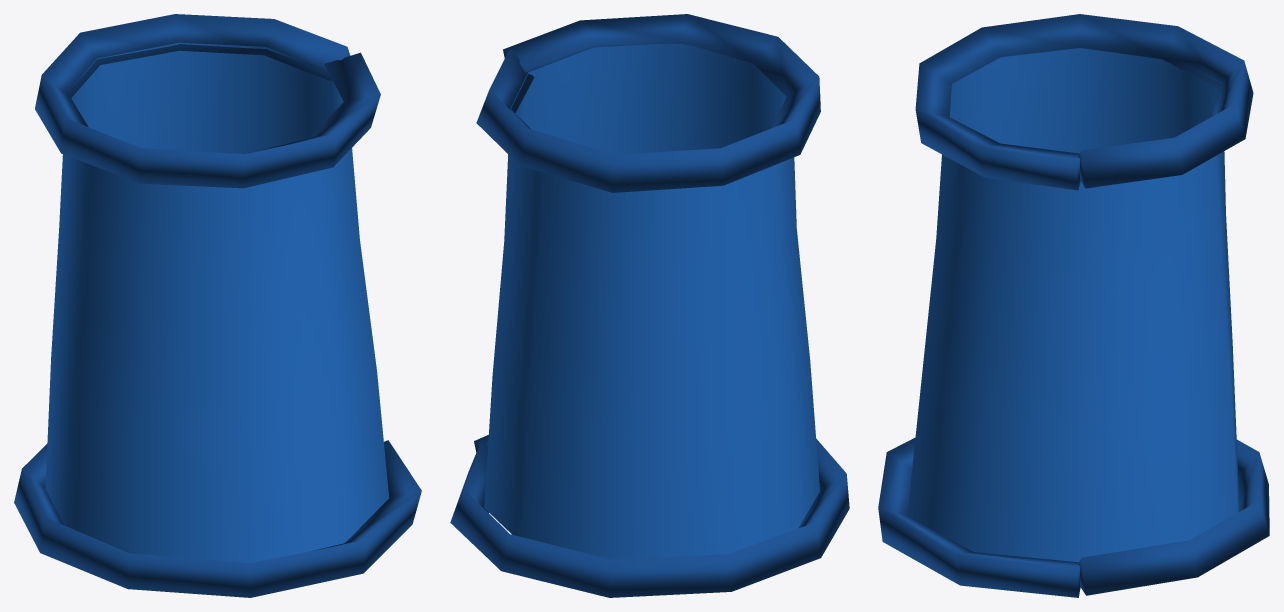
File: cobalt_armor_bracer.R.glb
3 renders of one model, left to right at view 1: azimuth 30°, elevation 25°; view 2: azimuth 150°, elevation 25°; view 3: azimuth 270°, elevation 25°, orthographic.
Parts seen in each view (by area): view 1: cobalt_armor_bracer.R; view 2: cobalt_armor_bracer.R; view 3: cobalt_armor_bracer.R.
Part boxes in pixels (bbox=[...]): cobalt_armor_bracer.R: bbox=[14, 14, 421, 597]; cobalt_armor_bracer.R: bbox=[450, 14, 849, 597]; cobalt_armor_bracer.R: bbox=[878, 14, 1269, 597].
Bounding box in the file's own units: 0.1435 × 0.1719 × 0.1408.
